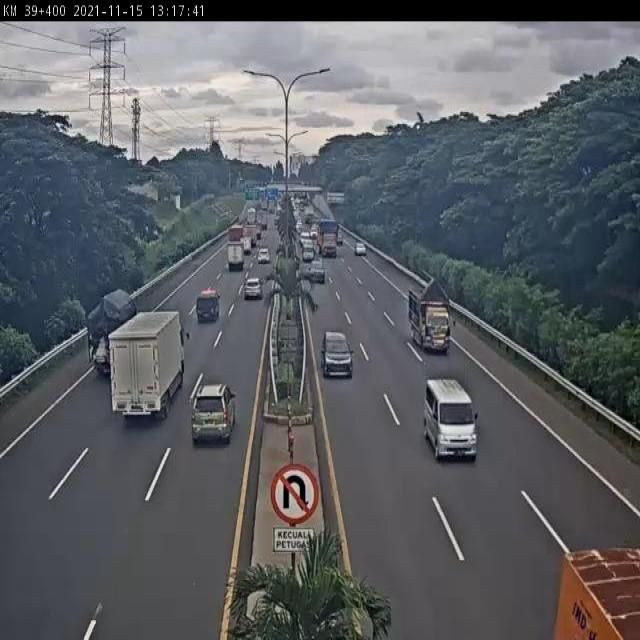Car: (192, 383, 236, 448), (320, 330, 354, 379), (196, 288, 221, 322), (307, 260, 326, 284), (244, 278, 262, 300), (302, 245, 315, 262), (258, 248, 270, 263), (354, 242, 366, 256)
Truck: (109, 308, 185, 419), (408, 278, 452, 351), (227, 242, 245, 270)
Van: (424, 376, 478, 458)
